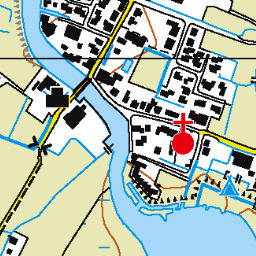church: (169, 111, 198, 158)
